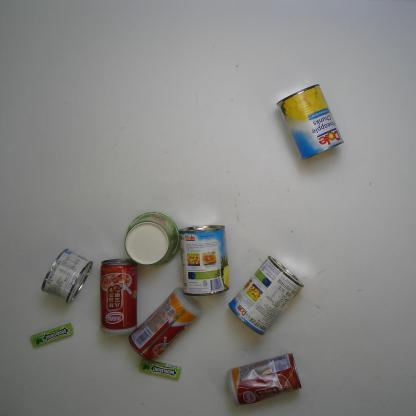Canned Food: (227, 254, 305, 338), (127, 286, 206, 364), (274, 82, 345, 164), (225, 350, 303, 408), (176, 223, 232, 299), (39, 246, 95, 306), (98, 257, 139, 337)
Gum: (29, 320, 77, 349), (136, 356, 184, 381)
Instant Drink: (122, 211, 181, 268)
